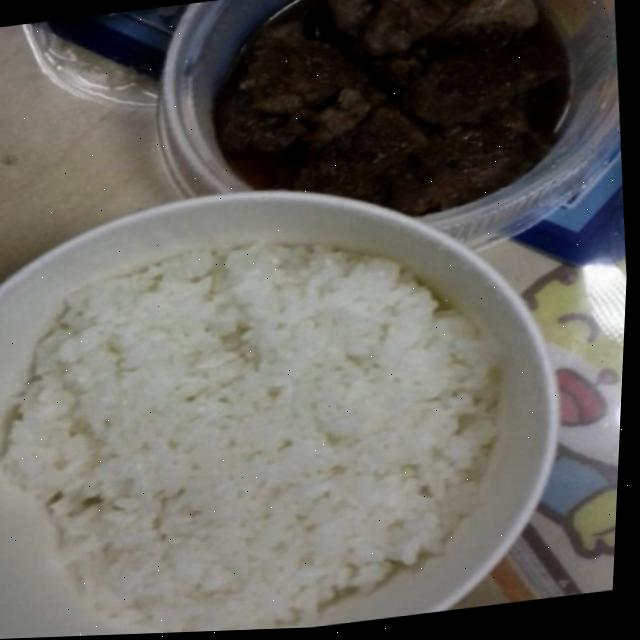米饭主食: (0, 142, 603, 640)
